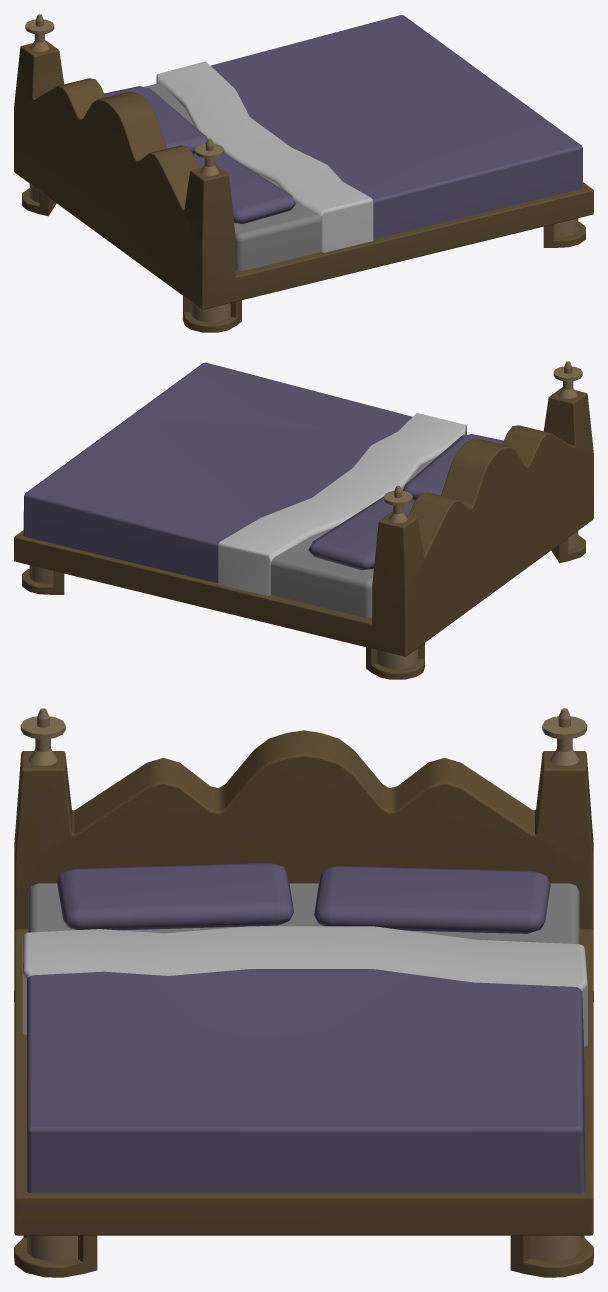
File: Bed.fbx
3 renders of one model, top to bottom at view 1: azimuth 30°, elevation 25°; view 2: azimuth 150°, elevation 25°; view 3: azimuth 270°, elevation 25°, orthographic. The views are drawn at different scales.
Visible parts, largest first — view 1: Bed_Covers, Bed_Body, Bed_Feet; view 2: Bed_Covers, Bed_Body, Bed_Feet; view 3: Bed_Covers, Bed_Body, Bed_Feet.
Boxes of the visible parts, x1,y1,x2,y2 form: Bed_Covers: [156, 15, 582, 252]; Bed_Body: [14, 14, 593, 309]; Bed_Feet: [22, 184, 585, 332]; Bed_Covers: [23, 362, 466, 595]; Bed_Body: [14, 361, 593, 656]; Bed_Feet: [22, 531, 585, 679]; Bed_Covers: [22, 926, 587, 1193]; Bed_Body: [14, 708, 593, 1235]; Bed_Feet: [14, 991, 593, 1277].
Bounding box in the file's own units: 244 × 110 × 202.
